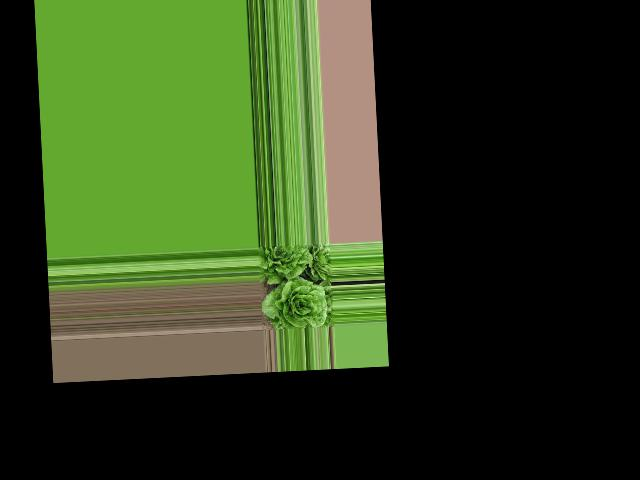lettuce: (259, 243, 313, 280)
